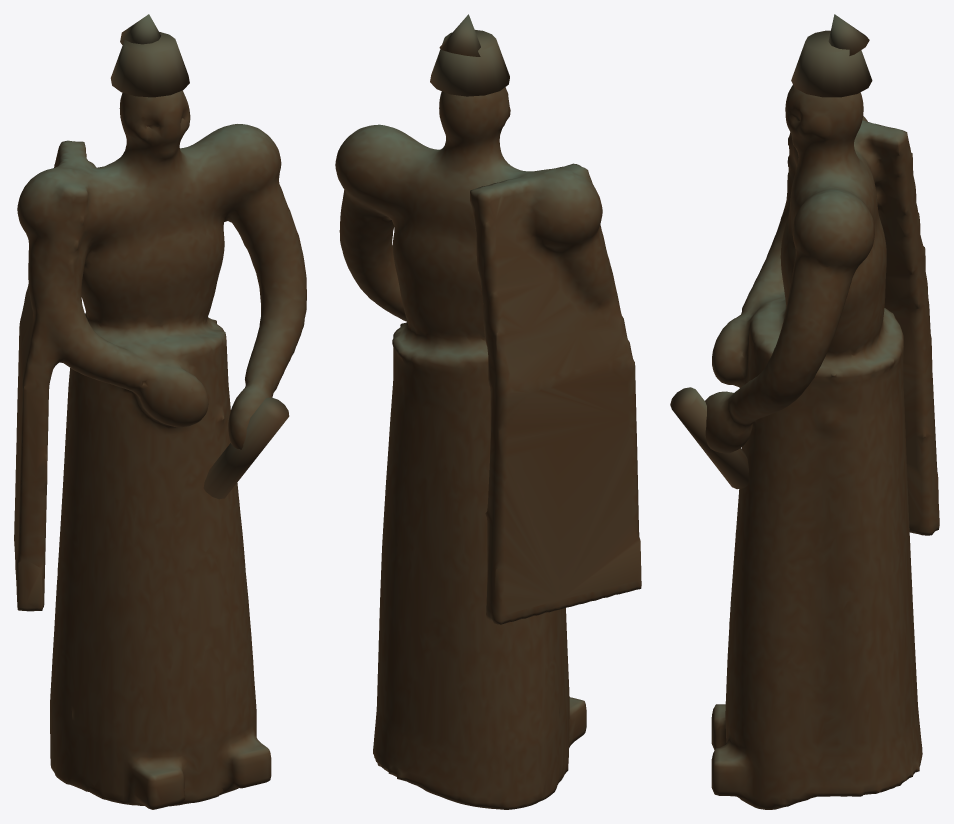
The model's file is rustaveli.glb.
3 views of the same model, side by side, from view 1: azimuth 30°, elevation 25°; view 2: azimuth 150°, elevation 25°; view 3: azimuth 270°, elevation 25° (orthographic).
Parts seen in each view (by area): view 1: ru_m; view 2: ru_m; view 3: ru_m.
Boxes of the visible parts, box(x1,y1,x2,y2) form: ru_m: box(14, 14, 306, 809); ru_m: box(335, 14, 641, 809); ru_m: box(670, 14, 939, 809).
Size of the model in its own units: 0.399 by 1 by 0.3189.
